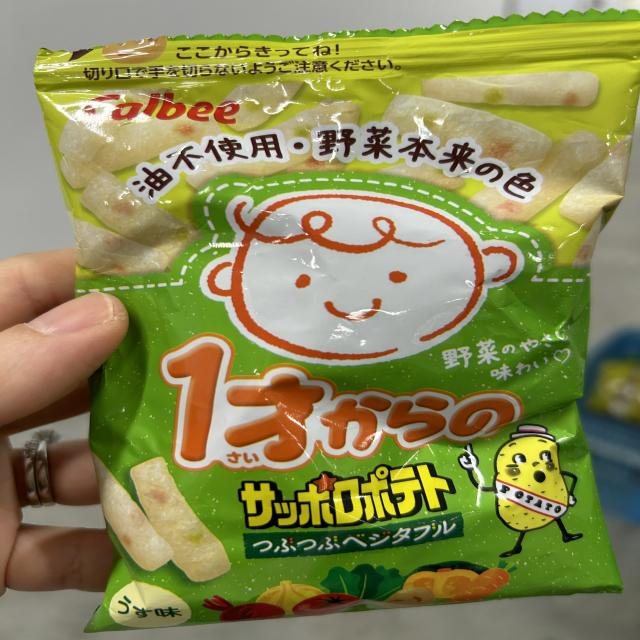object_name: (66, 59, 591, 587)
